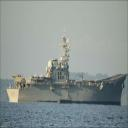Portanaves: (6, 33, 128, 106)
